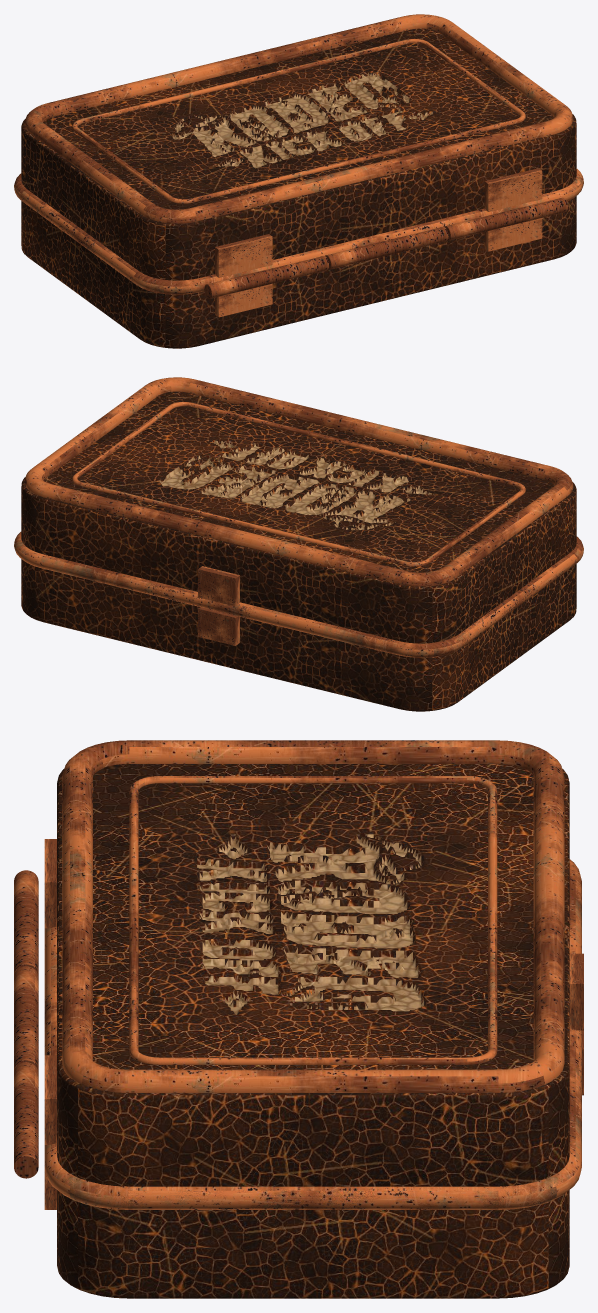
The model's file is suitcase.glb.
3 renders of one model, top to bottom at view 1: azimuth 30°, elevation 25°; view 2: azimuth 150°, elevation 25°; view 3: azimuth 270°, elevation 25°, orthographic. The views are drawn at different scales.
Parts seen in each view (by area): view 1: Lid_Body, Base_Body, Logo_Engraving, Lid_Frame, Base_Rim, Lid_Line, Hinge_Knuckle_Base_L, Hinge_Knuckle_Base_R, Hinge_Knuckle_Lid, Hinge_Plate_Lid_R, Hinge_Plate_Lid_L, Lid_Rim (+2 smaller); view 2: Lid_Body, Base_Body, Logo_Engraving, Lid_Frame, Lid_Rim, Base_Rim, Lid_Line, Clasp_Latch, Clasp_Catch; view 3: Lid_Body, Logo_Engraving, Base_Body, Lid_Frame, Base_Rim, Lid_Line, Lid_Rim, Hinge_Knuckle_Base_R, Hinge_Knuckle_Lid, Hinge_Knuckle_Base_L, Hinge_Plate_Lid_R, Hinge_Plate_Lid_L (+1 smaller).
Part boxes in pixels (x1,y1,x2,y2): Lid_Body: [21, 28, 576, 280]; Base_Body: [21, 196, 576, 348]; Logo_Engraving: [123, 56, 474, 188]; Lid_Frame: [24, 14, 573, 223]; Base_Rim: [15, 170, 583, 294]; Lid_Line: [72, 38, 525, 203]; Hinge_Knuckle_Base_L: [204, 256, 328, 298]; Hinge_Knuckle_Base_R: [444, 197, 567, 240]; Hinge_Knuckle_Lid: [325, 226, 448, 269]; Hinge_Plate_Lid_R: [484, 168, 542, 211]; Hinge_Plate_Lid_L: [215, 234, 272, 277]; Lid_Rim: [14, 169, 583, 294]; Lid_Body: [21, 391, 576, 643]; Base_Body: [21, 559, 576, 711]; Logo_Engraving: [123, 419, 474, 551]; Lid_Frame: [24, 377, 573, 586]; Lid_Rim: [14, 532, 583, 657]; Base_Rim: [15, 536, 583, 657]; Lid_Line: [72, 401, 525, 566]; Clasp_Latch: [198, 566, 239, 606]; Clasp_Catch: [198, 607, 239, 645]; Lid_Body: [57, 764, 569, 1186]; Logo_Engraving: [157, 819, 468, 1025]; Base_Body: [57, 1190, 569, 1298]; Lid_Frame: [62, 740, 564, 1092]; Base_Rim: [44, 866, 581, 1209]; Lid_Line: [129, 776, 497, 1064]; Lid_Rim: [47, 859, 581, 1209]; Hinge_Knuckle_Base_R: [14, 1062, 38, 1178]; Hinge_Knuckle_Lid: [14, 966, 38, 1071]; Hinge_Knuckle_Base_L: [14, 870, 38, 975]; Hinge_Plate_Lid_R: [44, 1055, 56, 1144]; Hinge_Plate_Lid_L: [44, 839, 56, 928].
Bounding box in the file's own units: 1.65 × 0.474 × 1.11.
Materials: 5 (5 with a texture image).
